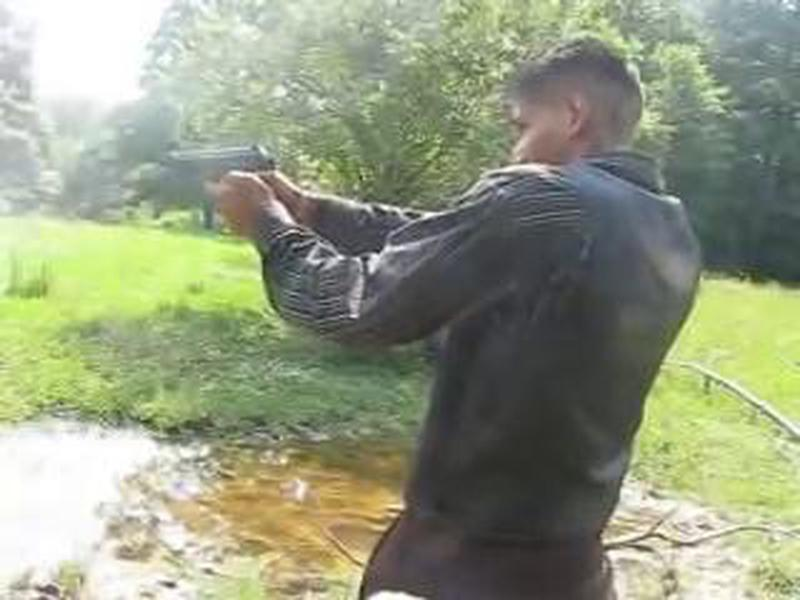Pistola: (155, 119, 284, 230)
